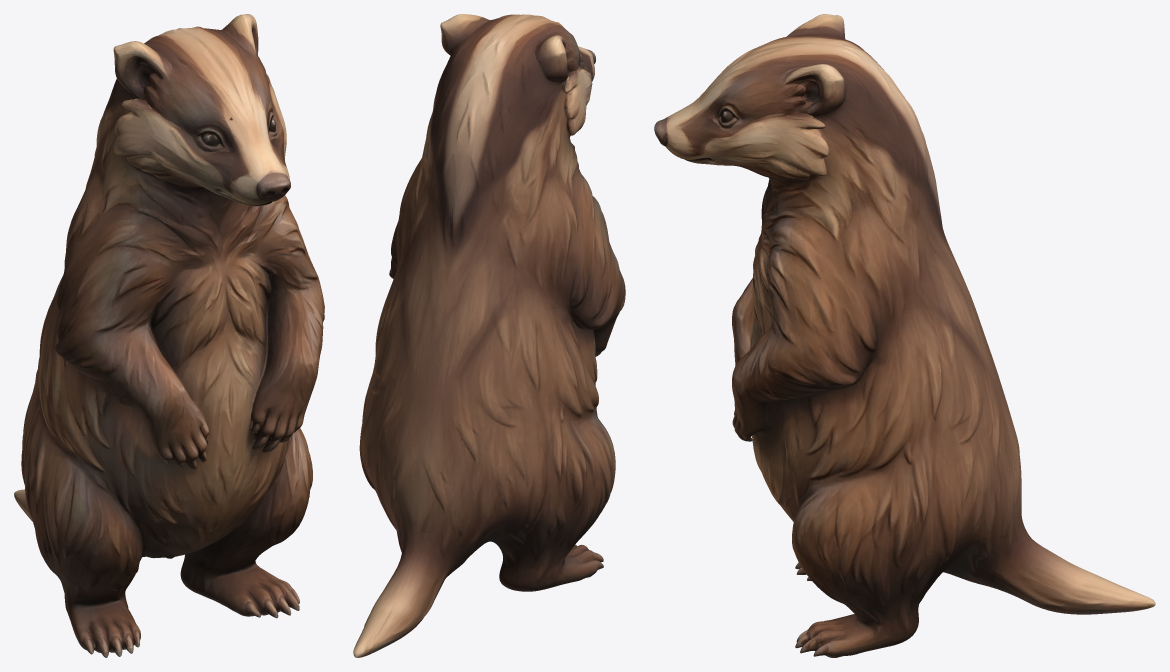
Rendered from badger.glb.
3 views of the same model, side by side, from view 1: azimuth 30°, elevation 25°; view 2: azimuth 150°, elevation 25°; view 3: azimuth 270°, elevation 25° (orthographic). The views are drawn at different scales.
Parts seen in each view (by area): view 1: output_unwrapped; view 2: output_unwrapped; view 3: output_unwrapped.
Part boxes in pixels (bbox=[...]): output_unwrapped: bbox=[14, 14, 324, 657]; output_unwrapped: bbox=[353, 14, 625, 657]; output_unwrapped: bbox=[654, 14, 1155, 657].
Size of the model in its own units: 0.8579 by 1.9 by 1.51.
1 material, 1 textured.
